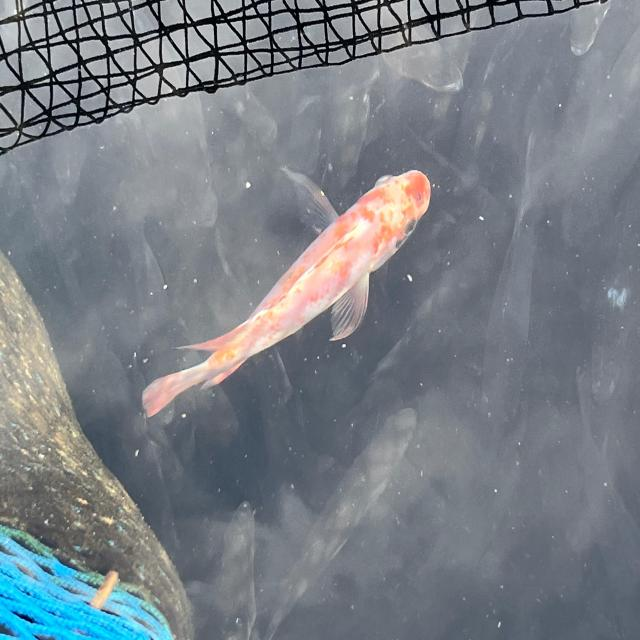ikan: (140, 163, 432, 420)
